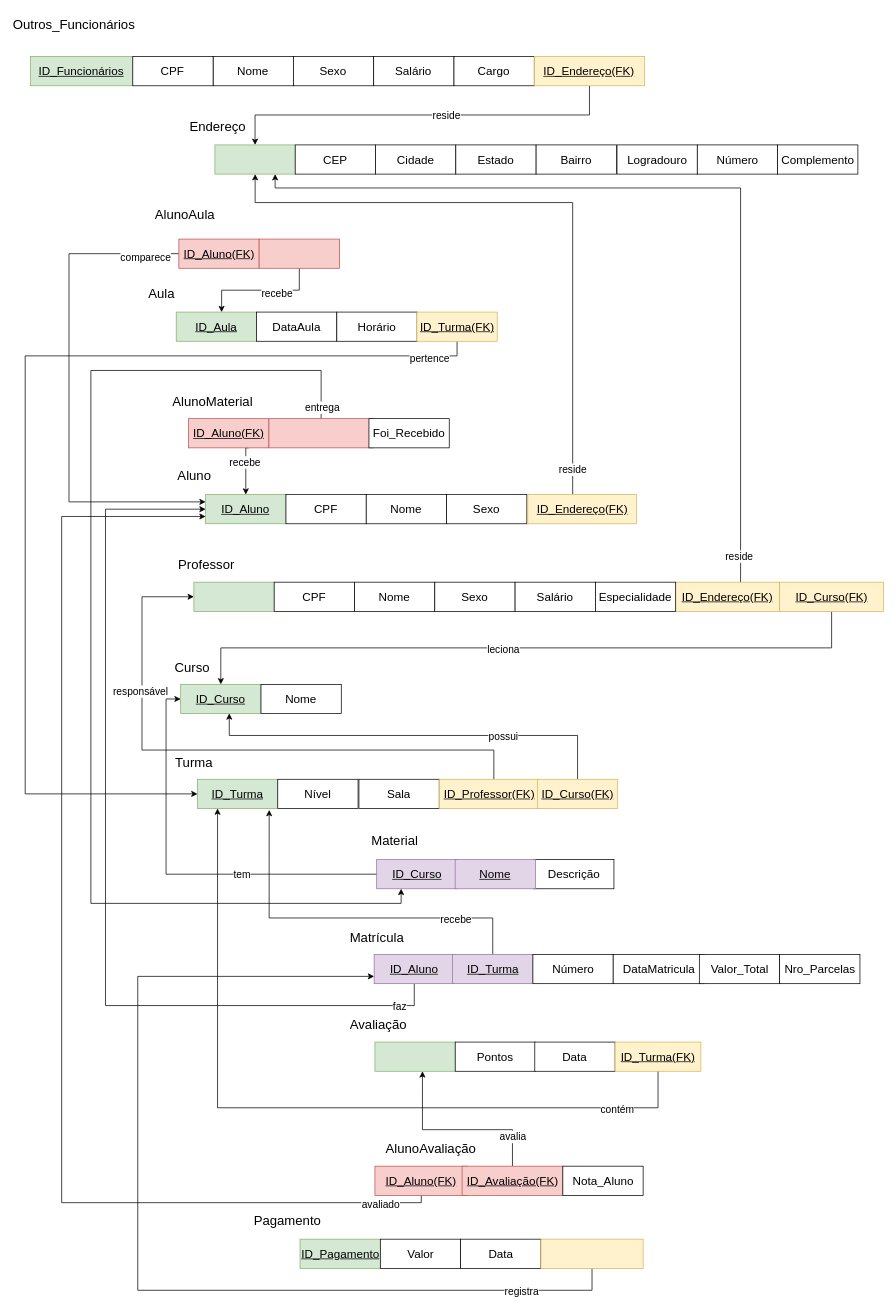
Some shapes in this 896 by 1310 pixel diagram are drawn without their labels. The box of each missing label's shape, as (x1, y1, x2, y2) in pixels:
ID_Aula(FK): (258, 238, 339, 268)
ID_Avaliação: (374, 1041, 455, 1071)
ID_Endereço: (214, 144, 295, 174)
ID_Material(FK): (268, 418, 373, 448)
ID_Matrícula(FK): (540, 1238, 643, 1268)
ID_Professor: (193, 581, 274, 611)
